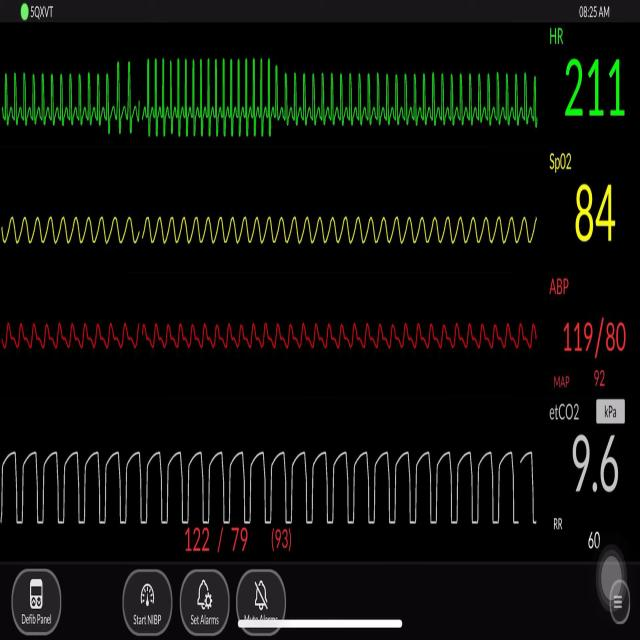danger: (283, 62, 541, 134), (144, 47, 278, 148), (2, 62, 136, 134)
